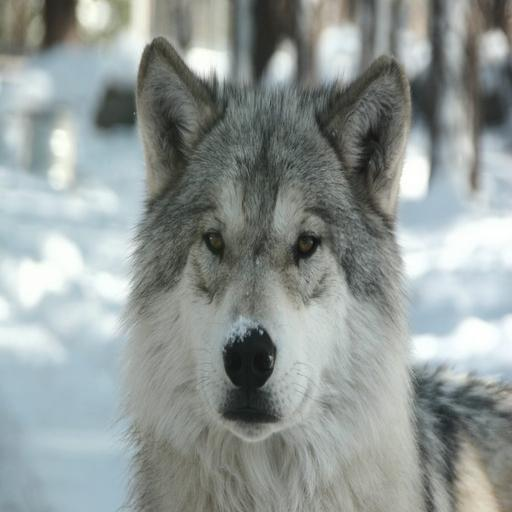Wolf: (106, 33, 512, 507)
